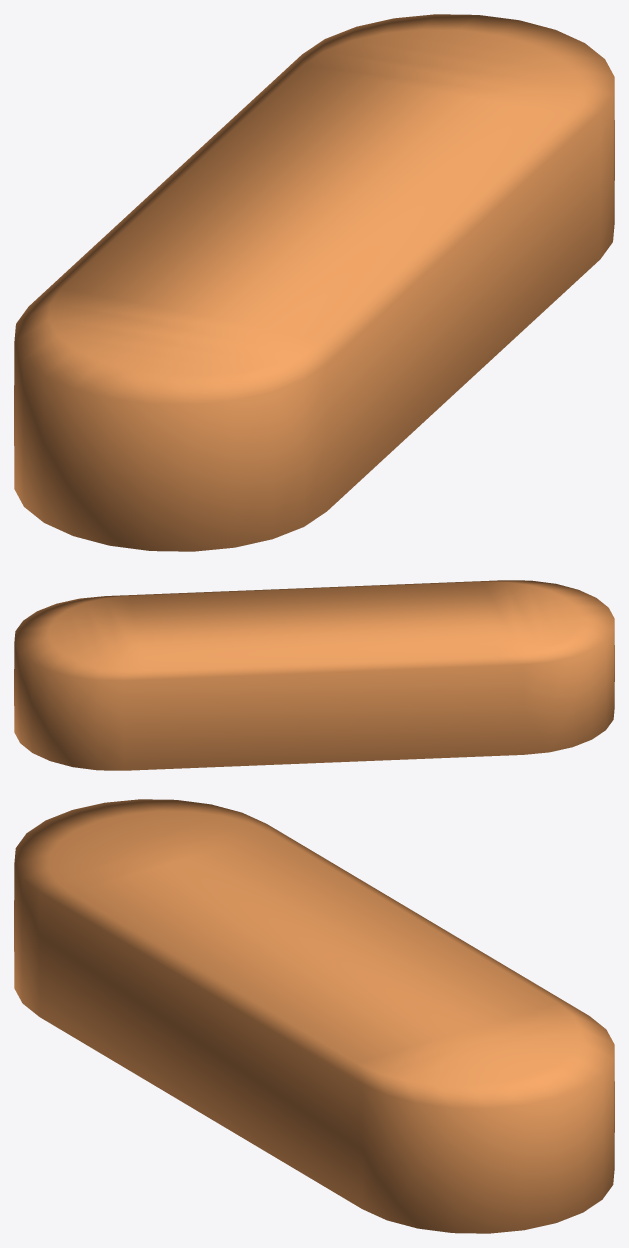
Rendered from original-39.obj.
The picture shows the model from 3 angles, top to bottom: view 1: azimuth 30°, elevation 25°; view 2: azimuth 150°, elevation 25°; view 3: azimuth 270°, elevation 25°; orthographic projection. The views are drawn at different scales.
Parts seen in each view (by area): view 1: mesh40/mesh40-geometry#mesh40-geometry; view 2: mesh40/mesh40-geometry#mesh40-geometry; view 3: mesh40/mesh40-geometry#mesh40-geometry.
Boxes of the visible parts, bbox=[...] form: mesh40/mesh40-geometry#mesh40-geometry: bbox=[14, 14, 614, 551]; mesh40/mesh40-geometry#mesh40-geometry: bbox=[14, 580, 614, 770]; mesh40/mesh40-geometry#mesh40-geometry: bbox=[14, 799, 614, 1233].
Size of the model in its own units: 0.2269 by 0.0467 by 0.1861.
